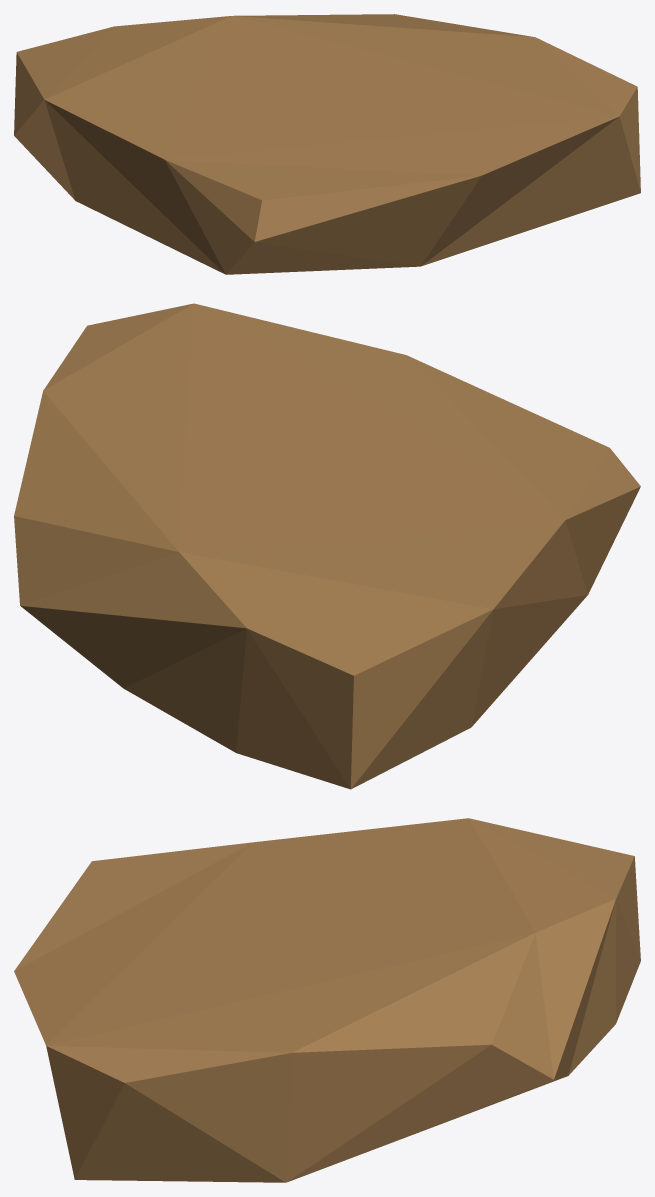
File: Path_tile_3.glb
3 views of the same model, one above another, from view 1: azimuth 30°, elevation 25°; view 2: azimuth 150°, elevation 25°; view 3: azimuth 270°, elevation 25° (orthographic). The views are drawn at different scales.
Visible parts, largest first — view 1: Path_tile_03; view 2: Path_tile_03; view 3: Path_tile_03.
Part boxes in pixels (<box>): Path_tile_03: <box>14,14,640,274</box>; Path_tile_03: <box>14,303,640,789</box>; Path_tile_03: <box>14,818,640,1182</box>.
Bounding box in the file's own units: 0.1523 × 0.037 × 0.1488.
